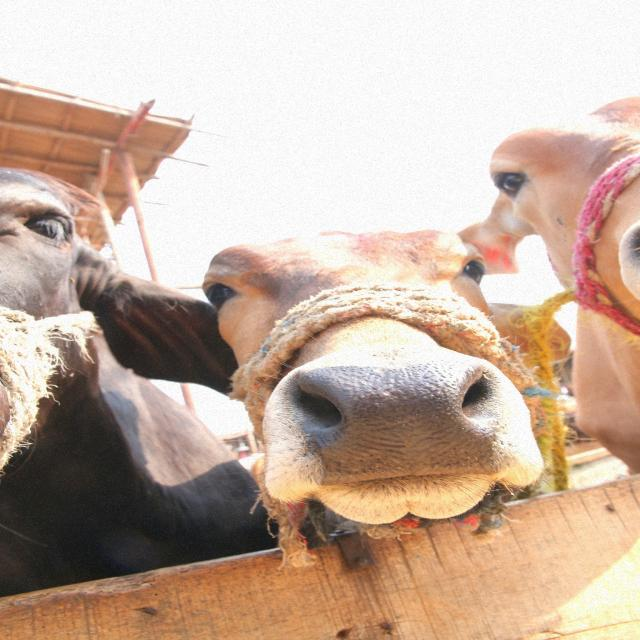muzzles: (276, 358, 517, 486)
